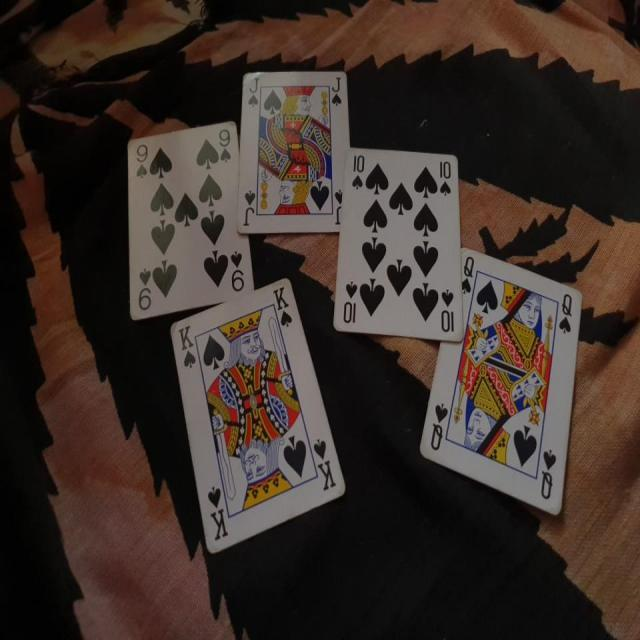10 of spades: (334, 136, 471, 358)
9 of spades: (111, 118, 258, 335)
jack of spades: (238, 63, 354, 240)
king of spades: (168, 272, 348, 574)
queen of spades: (417, 246, 590, 531)
